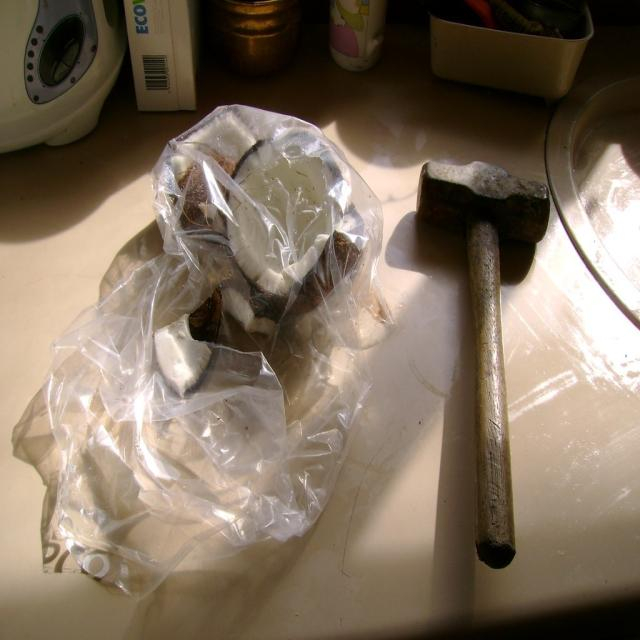Metal: (407, 140, 567, 241)
